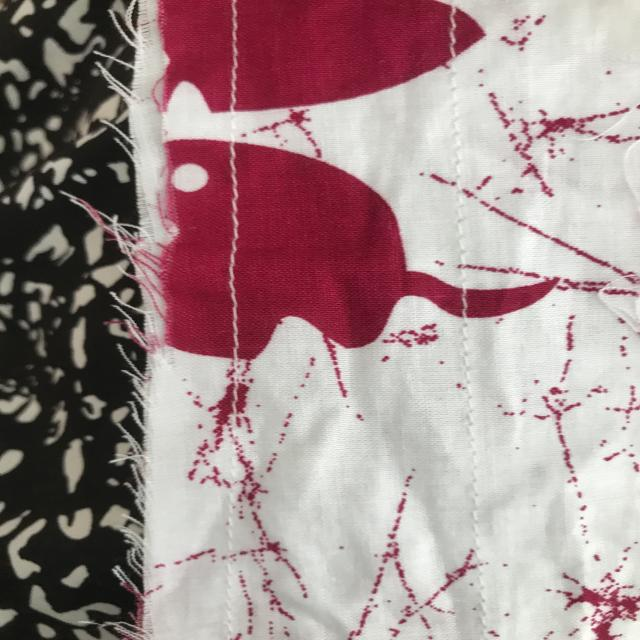good: (449, 364, 487, 504), (221, 154, 251, 244), (227, 8, 252, 100)
